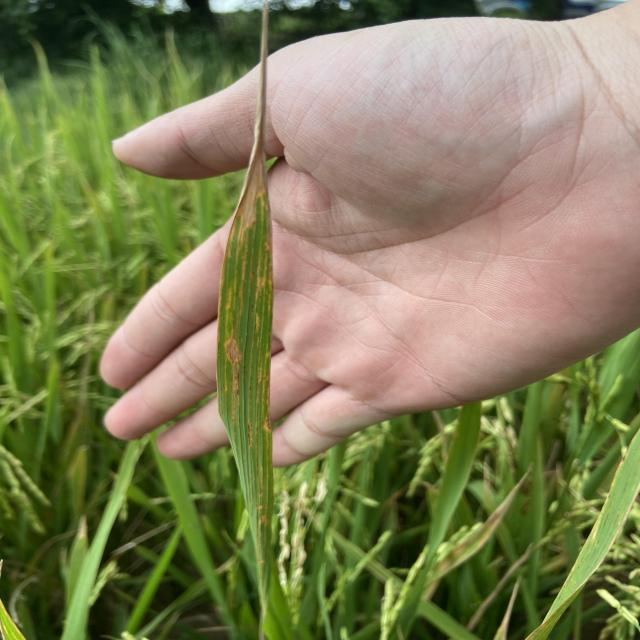Dom soc vi khuan: (224, 328, 243, 428), (247, 339, 255, 451), (255, 248, 268, 309), (238, 246, 249, 317), (256, 350, 262, 458), (264, 352, 272, 432), (261, 374, 266, 427), (225, 287, 233, 311), (255, 313, 259, 333)
